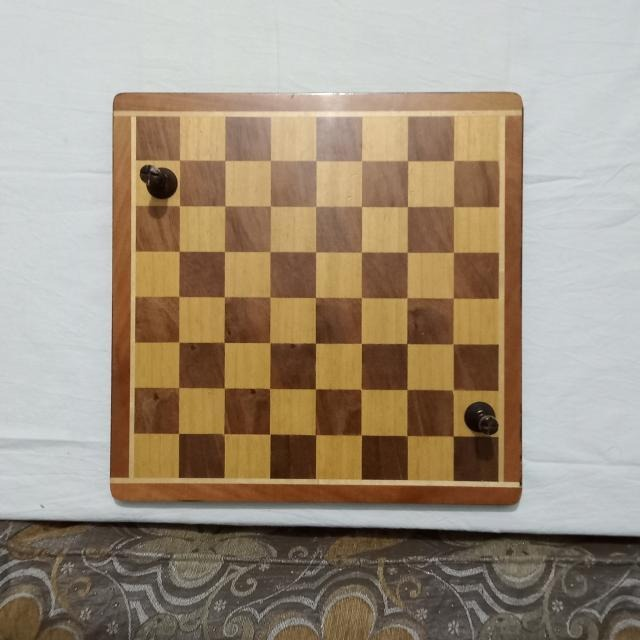black-rook: (462, 401, 501, 439), (138, 161, 178, 198)
